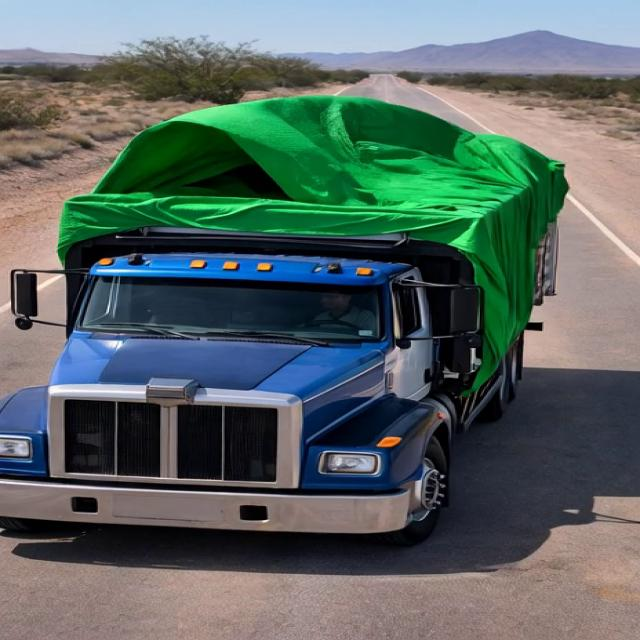trailer: (60, 95, 581, 252)
truck: (1, 84, 622, 548)
